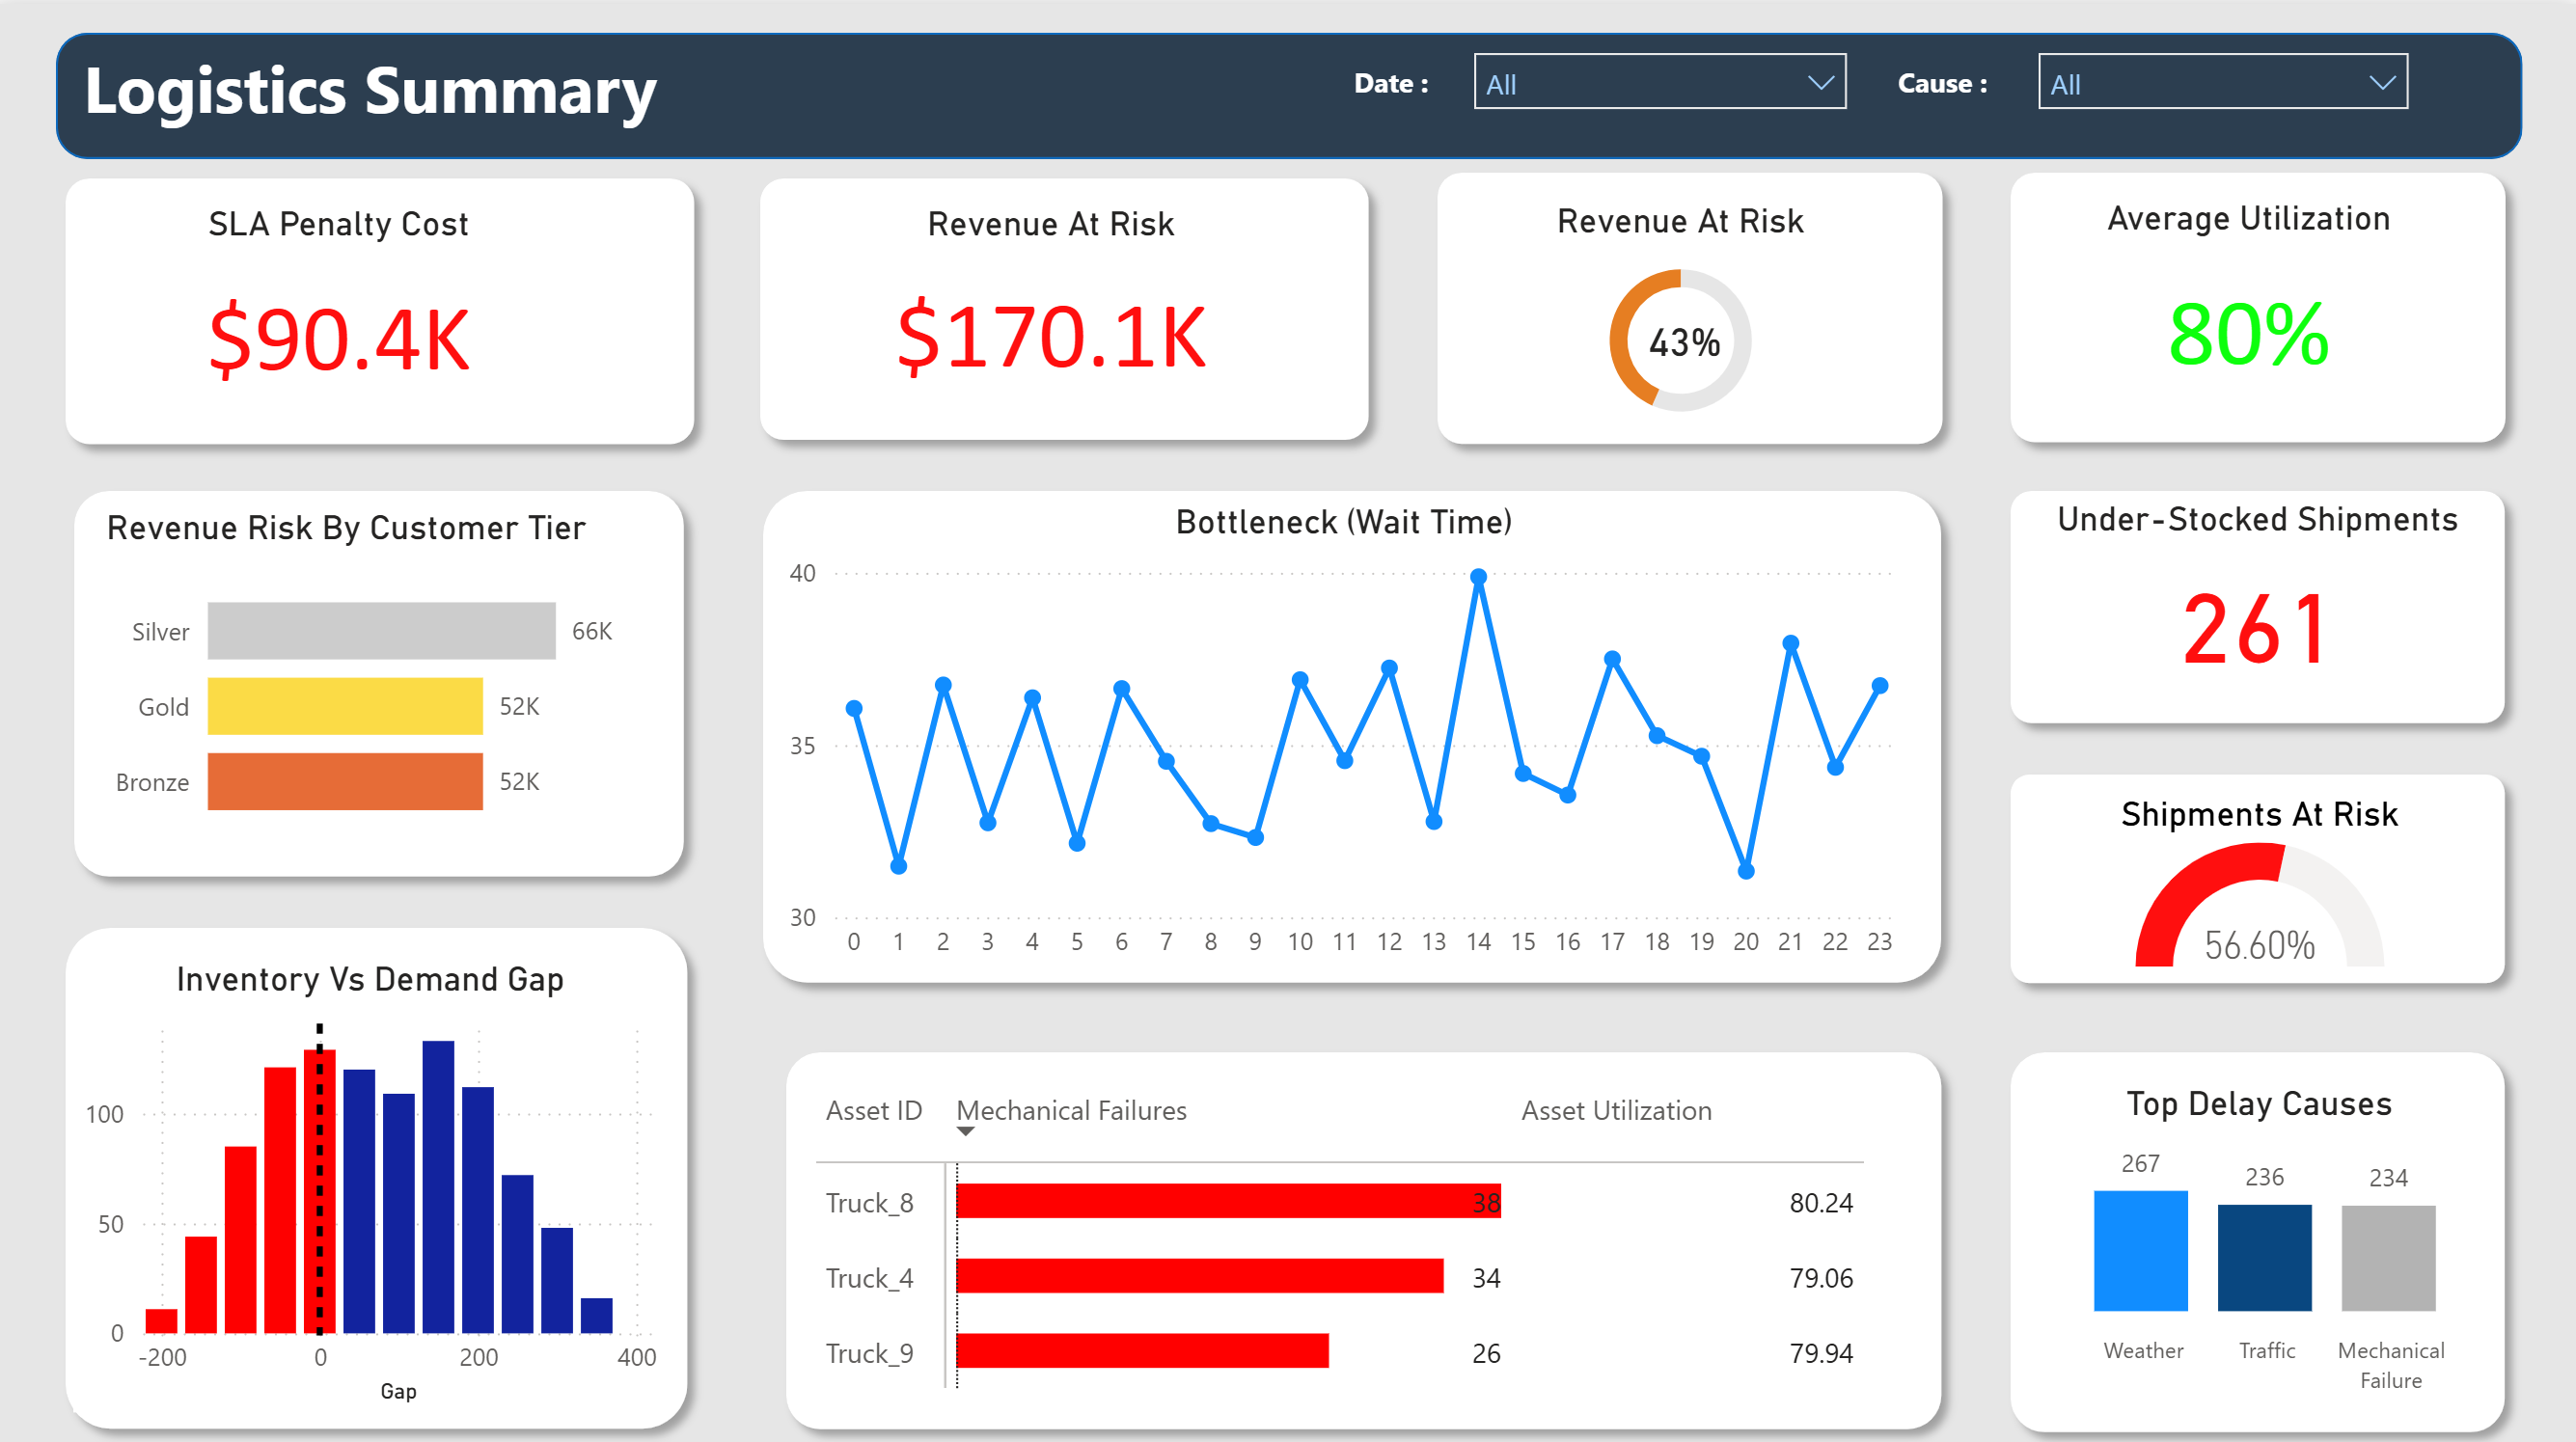

Layout of this report page (visuals, bound fields, positions):
{"tool":"powerbi","page":{"name":"Page 1","canvas":[1280,720],"ordinal":0},"visuals":[{"type":"shape","box":[32.6,14.2,1217.5,62.4],"z":0},{"type":"shape","box":[28.2,76.6,328.3,149.2],"z":0,"group":"g7"},{"type":"shape","box":[33.1,231.2,318.9,208.3],"z":0,"group":"g4"},{"type":"card","title":"SLA Penalty Cost","fields":{"Values":["smart_logistics_dataset.Penalty_Cost"]},"box":[61.4,98.2,222.2,106.1],"z":1000,"group":"g7"},{"type":"group","id":"g1","title":"Group 1","box":[28.4,447.8,325,265.3],"z":1000},{"type":"group","id":"g2","title":"Group 1","box":[705.8,75,267.3,152],"z":2000,"group":"g6"},{"type":"group","id":"g3","title":"Group 1","box":[372,76.6,318.3,149.2],"z":2000},{"type":"barChart","title":"Revenue Risk By Customer Tier","fields":{"Category":["smart_logistics_dataset.Customer_Segment"],"Y":["smart_logistics_dataset.Total_Revenue_Delayed_Transactions"]},"box":[53.2,248.8,260.8,171],"z":2000,"group":"g4"},{"type":"shape","box":[988.2,508.5,262,205.6],"z":3000},{"type":"columnChart","title":"Top Delay Causes","fields":{"Category":["smart_logistics_dataset.Logistics_Delay_Reason"],"Y":["CountNonNull(smart_logistics_dataset.Asset_ID)"]},"box":[1001.1,533.1,238.1,161.6],"z":4000},{"type":"textbox","box":[41.1,14.2,737,62.4],"z":5000},{"type":"clusteredColumnChart","title":"Inventory Vs Demand Gap","fields":{"Category":["smart_logistics_dataset.Planning Gap (bins)"],"Y":["CountNonNull(smart_logistics_dataset.Asset_ID)"]},"box":[41.6,470.8,293.4,223.9],"z":6000},{"type":"group","id":"g4","title":"Group 3","box":[33.1,231.2,318.9,208.3],"z":7000},{"type":"shape","box":[28.4,447.8,325,265.3],"z":7500,"group":"g1"},{"type":"shape","box":[373.3,231.2,599.5,260.8],"z":8000},{"type":"shape","box":[705.8,75,267.3,152],"z":9000,"group":"g2"},{"type":"shape","box":[988.2,75,262.3,151.1],"z":9000,"group":"g5"},{"type":"shape","box":[372,76.6,318.3,147.1],"z":9000,"group":"g3"},{"type":"lineChart","title":"Bottleneck (Wait Time)","fields":{"Category":["smart_logistics_dataset.Hour of Day"],"Y":["Avg(smart_logistics_dataset.Waiting_Time)"]},"box":[389.8,245.2,557,235.3],"z":9000},{"type":"group","id":"g5","title":"Group 1","box":[988.2,75,263.6,152.5],"z":10000},{"type":"card","title":"Average Utilization","fields":{"Values":["smart_logistics_dataset.Average_Utilization"]},"box":[1013.3,96.6,202.2,105.8],"z":10000,"group":"g5"},{"type":"card","title":"Revenue At Risk","fields":{"Values":["smart_logistics_dataset.Revenue_At_Risk"]},"box":[402.4,97.6,245.3,103],"z":10000,"group":"g3"},{"type":"donutChart","title":"Revenue At Risk","fields":{"Y":["CountNonNull(smart_logistics_dataset.Asset_ID)"],"Category":["smart_logistics_dataset.Delivery_Status"]},"box":[723.5,98.5,223.9,119.1],"z":10000,"group":"g2"},{"type":"card","fields":{"Values":["smart_logistics_dataset.On_Time_Shipments%"]},"box":[807.1,145.3,59.5,45.4],"z":11000,"group":"g6"},{"type":"shape","box":[384.6,509,588.2,204.1],"z":11000},{"type":"shape","box":[988.2,370.9,262,121],"z":12000},{"type":"gauge","title":"Shipments At Risk","fields":{"Y":["smart_logistics_dataset.Shipments_At_Risk"]},"box":[1012.5,389.5,215.7,90.4],"z":13000},{"type":"pivotTable","fields":{"Values":["smart_logistics_dataset.Mechanical_Failure_Count","Avg(smart_logistics_dataset.Asset_Utilization)"],"Rows":["smart_logistics_dataset.Asset_ID"]},"box":[410,524.3,544.3,174.3],"z":14000},{"type":"group","id":"g6","title":"Group 2","box":[705.8,75,267.3,152],"z":15000},{"type":"group","id":"g7","title":"Group 5","box":[28.2,76.6,328.3,149.2],"z":16000},{"type":"shape","box":[988.2,231.6,262,132.6],"z":17000},{"type":"card","title":"Under-Stocked Shipments","fields":{"Values":["smart_logistics_dataset.Under-Stocked-Shipments"]},"box":[1013.1,244.9,213.9,97.8],"z":18000},{"type":"slicer","title":"Date","fields":{"Values":["smart_logistics_dataset.Timestamp"]},"box":[723.3,14.4,204.1,48.2],"z":19000},{"type":"textbox","box":[668.6,24.3,55.7,28.6],"z":20000},{"type":"slicer","fields":{"Values":["smart_logistics_dataset.Logistics_Delay_Reason"]},"box":[1001.1,14.4,202.7,48.2],"z":21000},{"type":"textbox","box":[937.1,24.3,65.7,28.6],"z":22000}]}

Visuals, with their boxes in screenshot pixels (x1, y1, x2, y2), scaled from the page's 1280x720 canvas onto the 2576x1442 screenshot:
shape: locate(66, 28, 2516, 153)
shape: locate(57, 153, 718, 452)
shape: locate(67, 463, 708, 881)
"SLA Penalty Cost" card: locate(123, 197, 571, 409)
"Group 1" group: locate(57, 897, 711, 1428)
"Group 1" group: locate(1420, 150, 1959, 454)
"Group 1" group: locate(749, 153, 1389, 452)
"Revenue Risk By Customer Tier" barChart: locate(107, 499, 632, 841)
shape: locate(1988, 1019, 2516, 1430)
"Top Delay Causes" columnChart: locate(2014, 1068, 2494, 1391)
textbox: locate(83, 28, 1566, 153)
"Inventory Vs Demand Gap" clusteredColumnChart: locate(84, 943, 674, 1391)
"Group 3" group: locate(67, 463, 708, 881)
shape: locate(57, 897, 711, 1428)
shape: locate(752, 463, 1958, 986)
shape: locate(1420, 150, 1959, 454)
shape: locate(1988, 150, 2516, 452)
shape: locate(749, 153, 1389, 448)
"Bottleneck (Wait Time)" lineChart: locate(784, 491, 1905, 963)
"Group 1" group: locate(1988, 150, 2519, 455)
"Average Utilization" card: locate(2040, 194, 2446, 405)
"Revenue At Risk" card: locate(809, 196, 1303, 402)
"Revenue At Risk" donutChart: locate(1456, 198, 1906, 436)
card - smart_logistics_dataset.On_Time_Shipments%: locate(1625, 291, 1744, 382)
shape: locate(774, 1020, 1958, 1428)
shape: locate(1988, 743, 2516, 985)
"Shipments At Risk" gauge: locate(2038, 780, 2472, 961)
pivotTable - smart_logistics_dataset.Mechanical_Failure_Count x Avg(smart_logistics_dataset.Asset_Utilization): locate(825, 1050, 1921, 1400)
"Group 2" group: locate(1420, 150, 1959, 454)
"Group 5" group: locate(57, 153, 718, 452)
shape: locate(1988, 464, 2516, 729)
"Under-Stocked Shipments" card: locate(2039, 491, 2469, 687)
"Date" slicer: locate(1456, 29, 1866, 125)
textbox: locate(1346, 48, 1458, 106)
slicer - smart_logistics_dataset.Logistics_Delay_Reason: locate(2014, 29, 2423, 125)
textbox: locate(1886, 48, 2018, 106)
